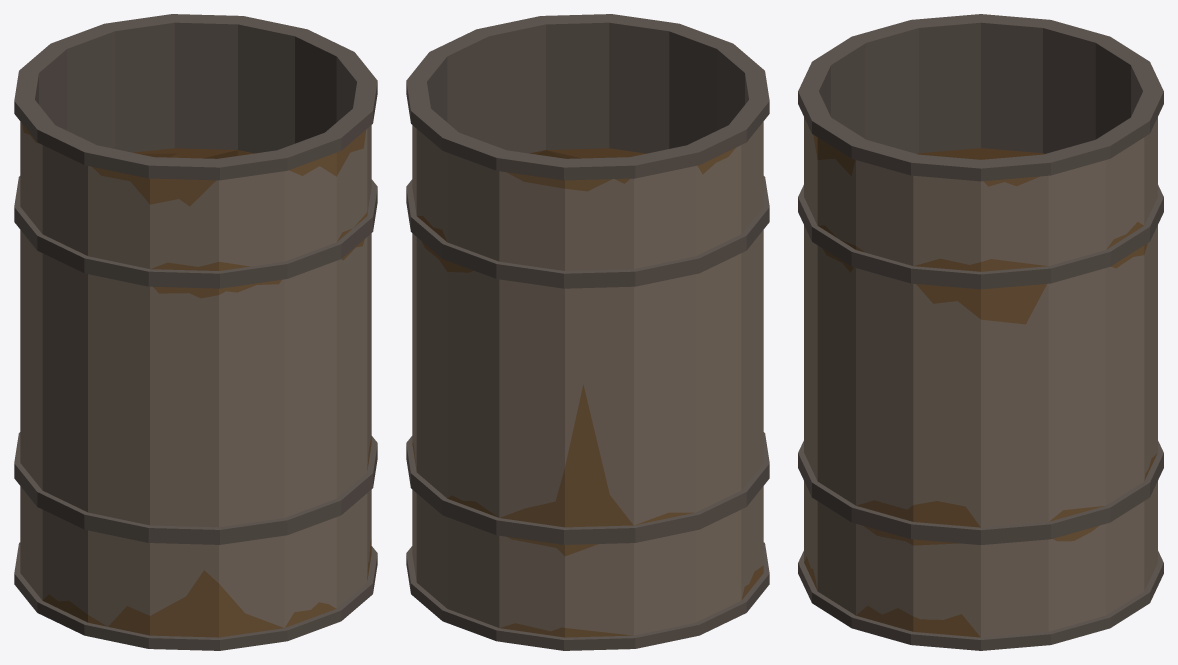
File: Barrel_02.glb
The picture shows the model from 3 angles, left to right: view 1: azimuth 30°, elevation 25°; view 2: azimuth 150°, elevation 25°; view 3: azimuth 270°, elevation 25°; orthographic projection.
Parts seen in each view (by area): view 1: Barrel_02; view 2: Barrel_02; view 3: Barrel_02.
Boxes of the visible parts, left/top/right/bottom form: Barrel_02: left=14, top=14, right=377, bottom=650; Barrel_02: left=406, top=14, right=769, bottom=650; Barrel_02: left=798, top=14, right=1163, bottom=650.
Size of the model in its own units: 0.6096 by 0.8866 by 0.6096.
1 material, 1 textured.
